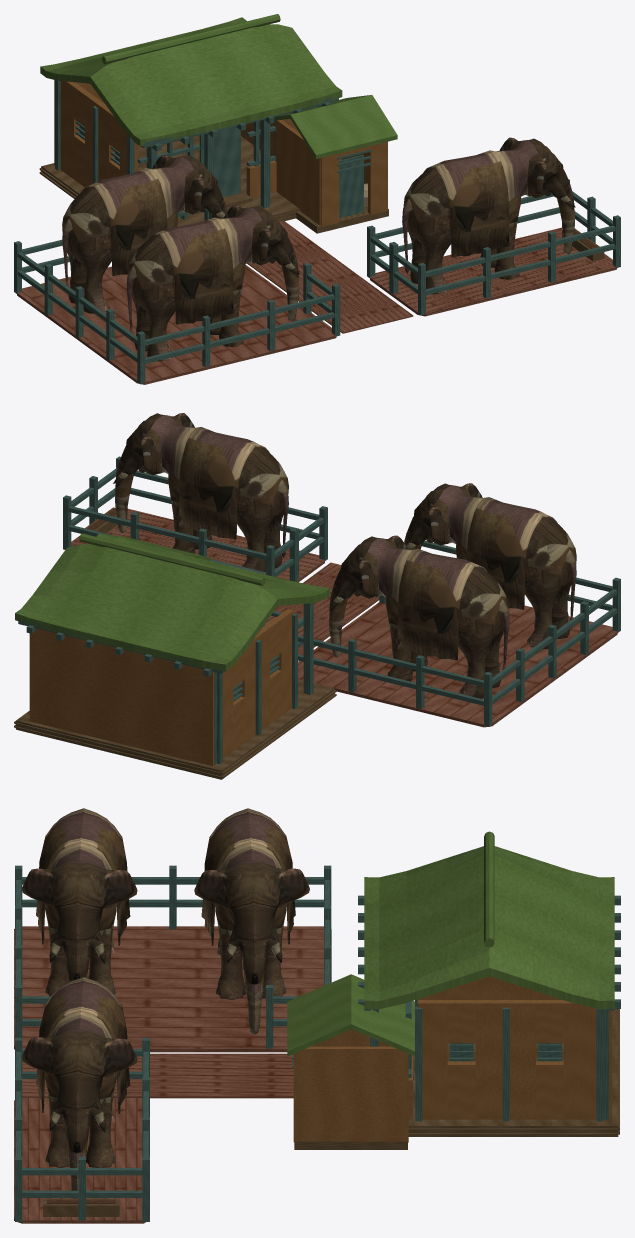
The picture shows the model from 3 angles, top to bottom: view 1: azimuth 30°, elevation 25°; view 2: azimuth 150°, elevation 25°; view 3: azimuth 270°, elevation 25°; orthographic projection. The views are drawn at different scales.
Visible parts, largest first — view 1: garrison_part_0001, garrison_part_0000; view 2: garrison_part_0001, garrison_part_0000; view 3: garrison_part_0001, garrison_part_0000.
Part boxes in pixels (x1,y1,x2,y2): garrison_part_0001: (14,14,620,384); garrison_part_0000: (17,135,616,384); garrison_part_0001: (15,413,620,766); garrison_part_0000: (14,508,617,779); garrison_part_0001: (15,808,620,1221); garrison_part_0000: (14,926,619,1223).
Bounding box in the file's own units: 1500 × 457 × 1309.
